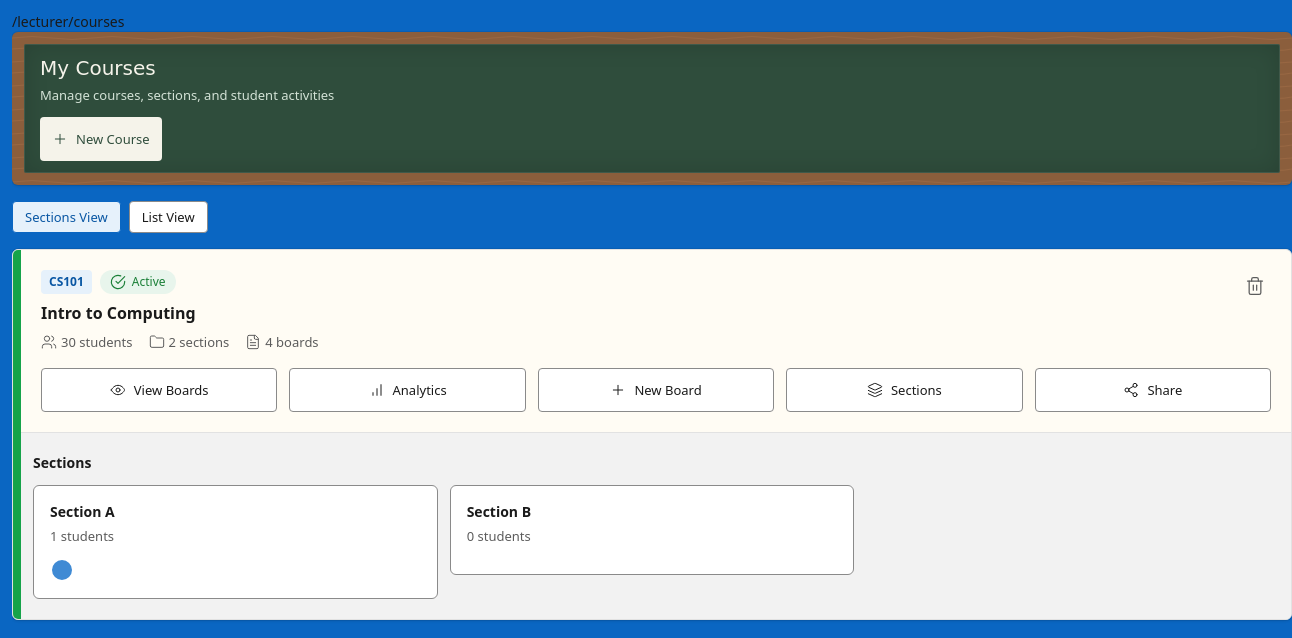
LecturerCoursesPage › List View hides the section tiles and reports the pressed state
Expected: the button "Section A 1 students" is shown, top-left (33, 485), bottom-right (438, 599)
Click the button "List View" at (168, 217), box top-left (129, 201), bottom-right (208, 233)
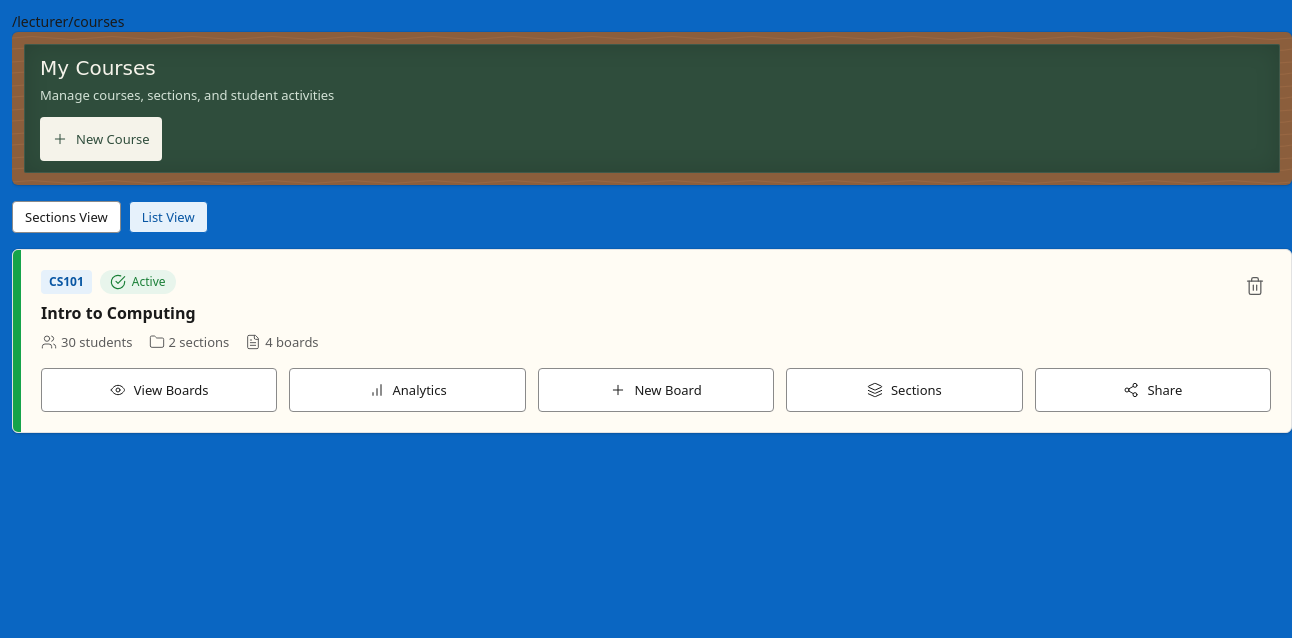
Expected: the button "Section A" is gone
